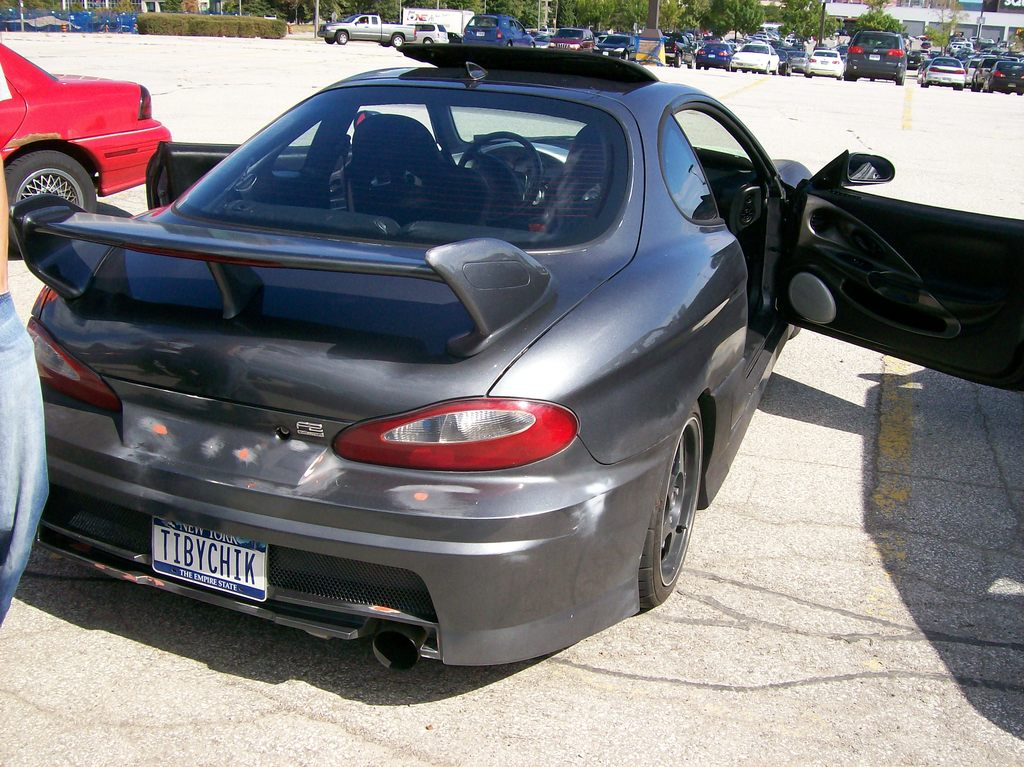Car: (8, 43, 1023, 668), (314, 14, 1023, 92), (0, 42, 174, 255)
